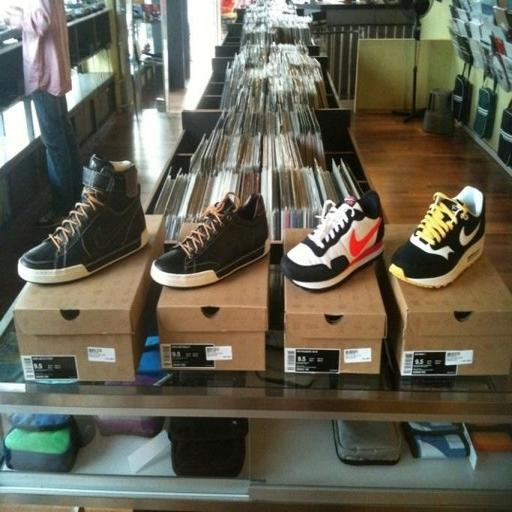shoe: (18, 155, 148, 283), (151, 193, 270, 288), (280, 190, 384, 290), (389, 186, 485, 288), (37, 210, 65, 229)
